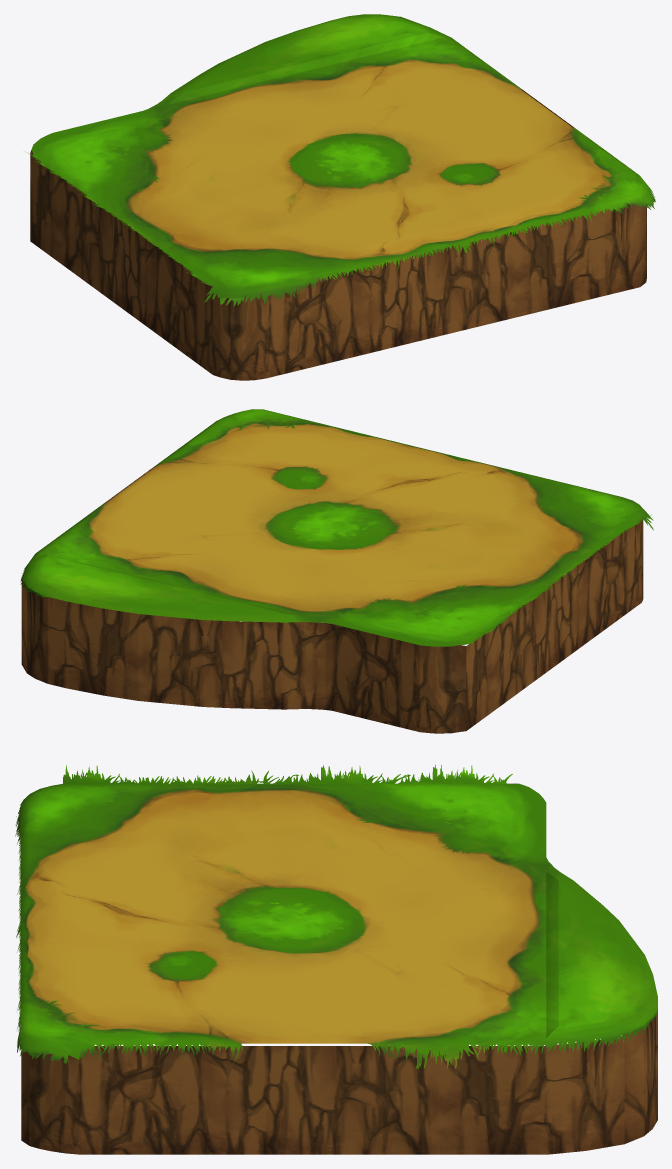
The model's file is 2-1bossarea.FBX.
The picture shows the model from 3 angles, top to bottom: view 1: azimuth 30°, elevation 25°; view 2: azimuth 150°, elevation 25°; view 3: azimuth 270°, elevation 25°; orthographic projection. The views are drawn at different scales.
Parts seen in each view (by area): view 1: Plane003, Object001; view 2: Plane003, Object001; view 3: Plane003, Object001.
Part boxes in pixels (x1,y1,x2,y2): Plane003: [28, 14, 655, 306]; Object001: [30, 42, 646, 380]; Plane003: [20, 409, 653, 646]; Object001: [21, 424, 643, 733]; Plane003: [15, 764, 657, 1068]; Object001: [21, 783, 657, 1154].
Size of the model in its own units: 98.08 by 19.96 by 96.33.
